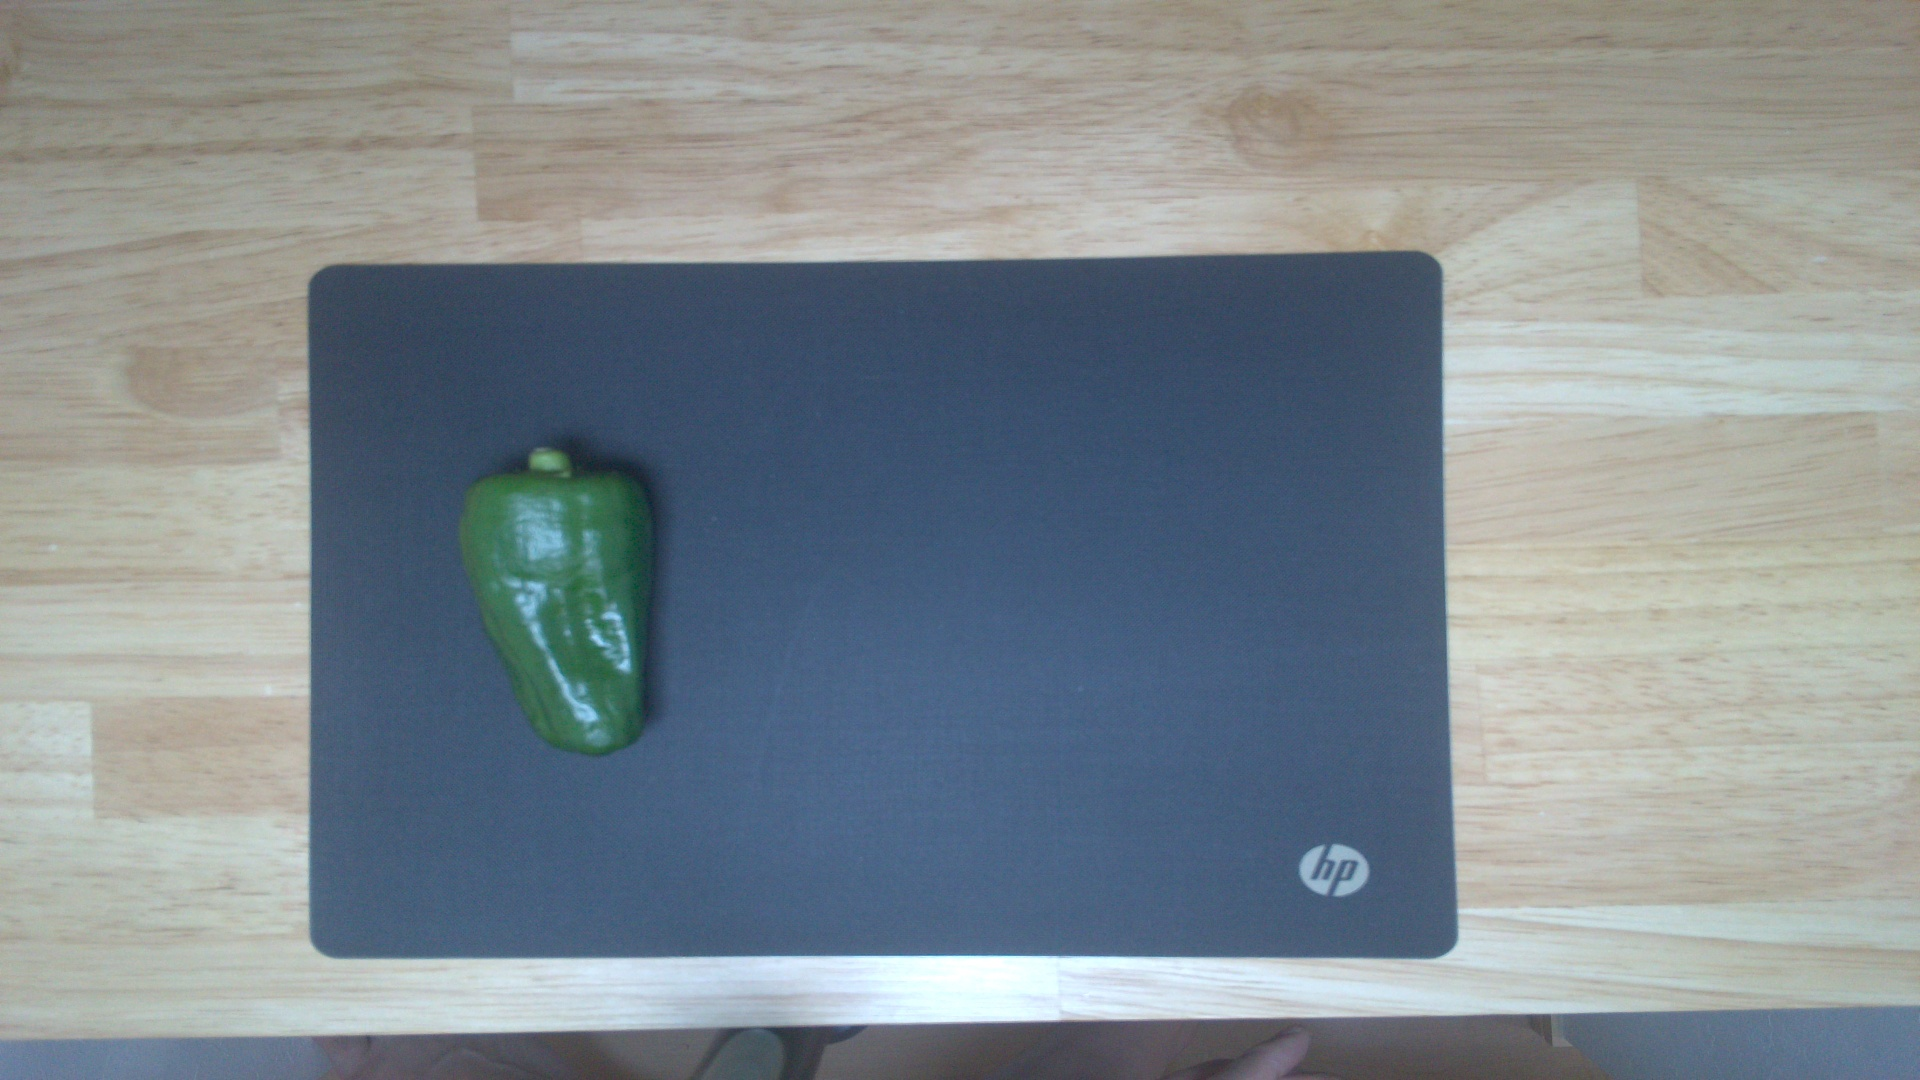Piman: (454, 444, 665, 757)
